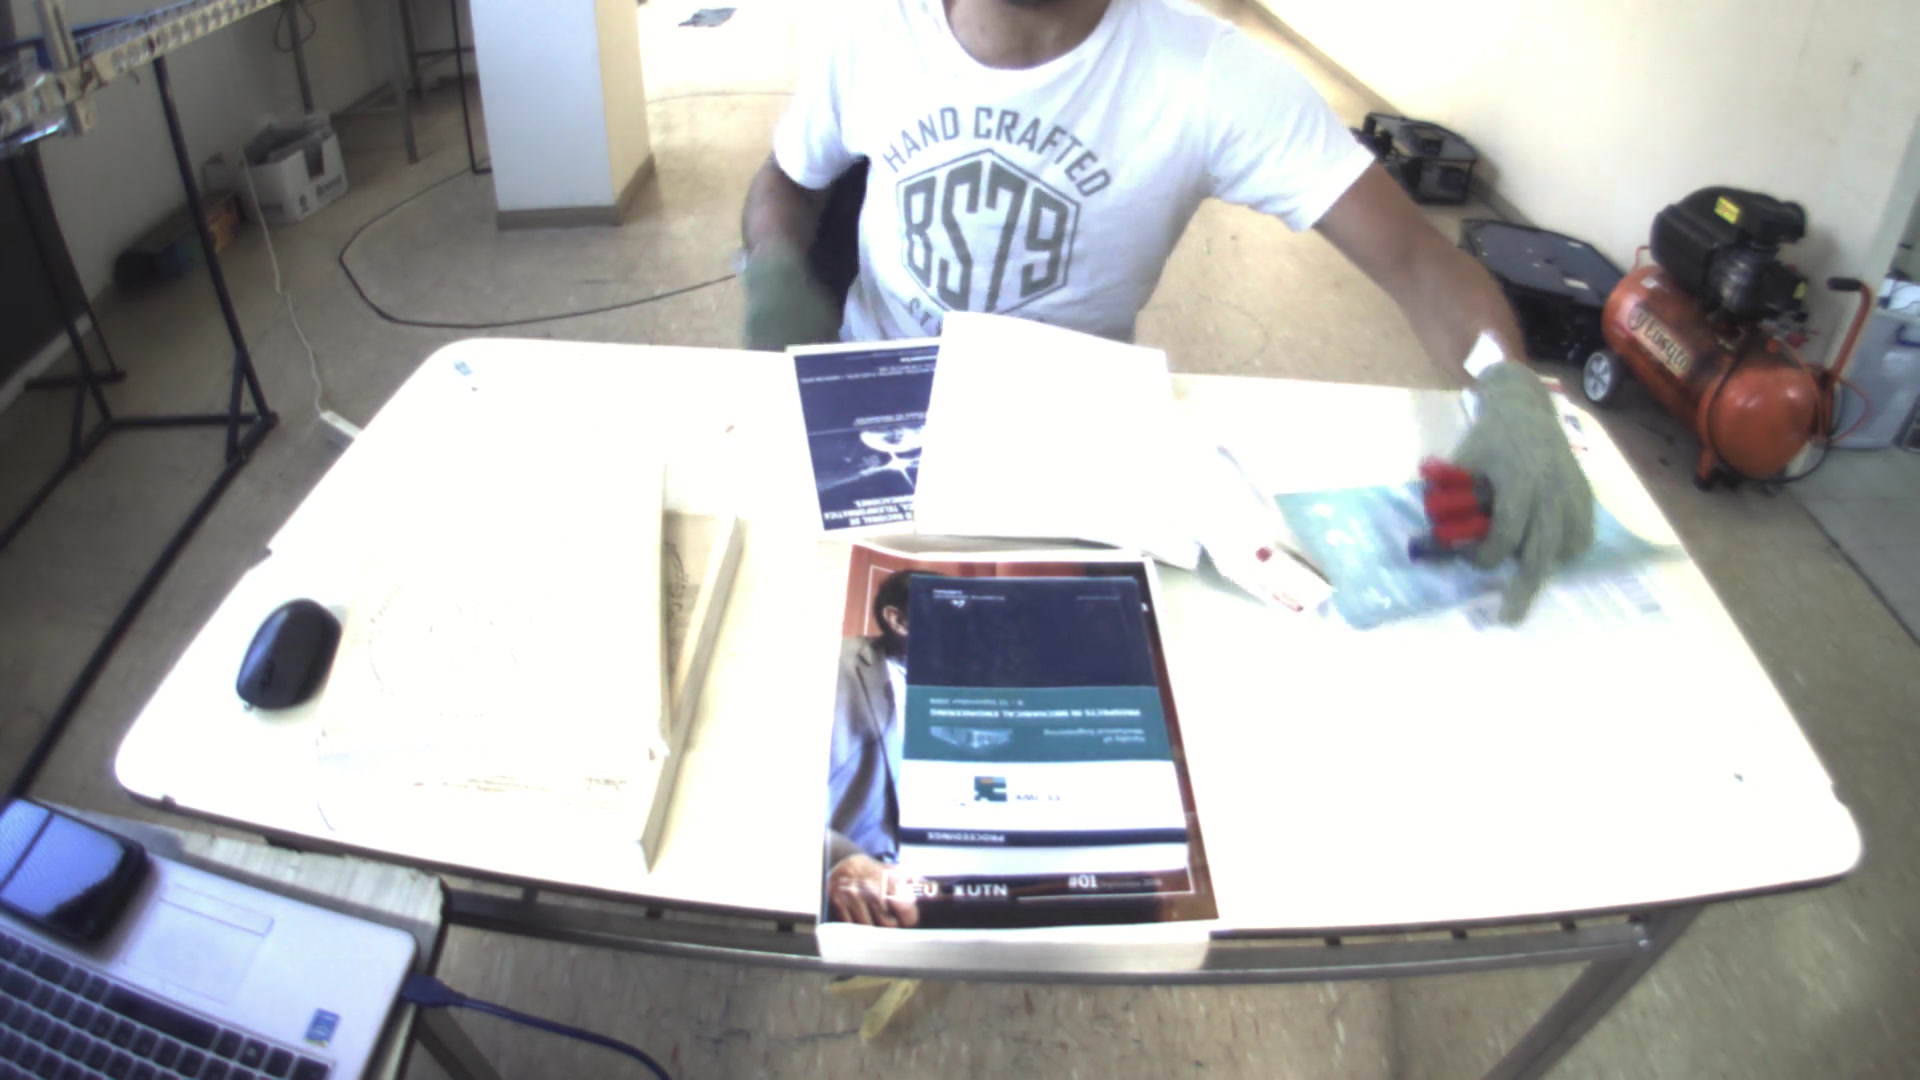hand: (1456, 363, 1605, 645)
